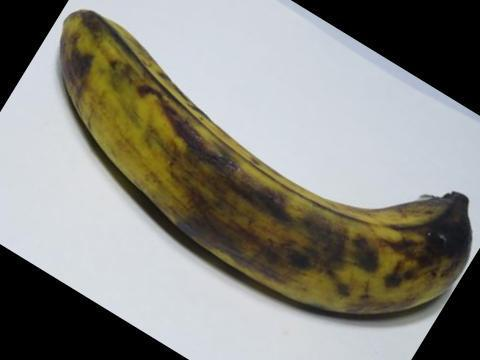overripe: (54, 6, 479, 346)
